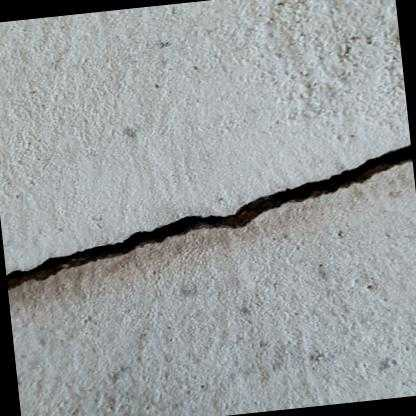crack: (5, 139, 413, 291)
